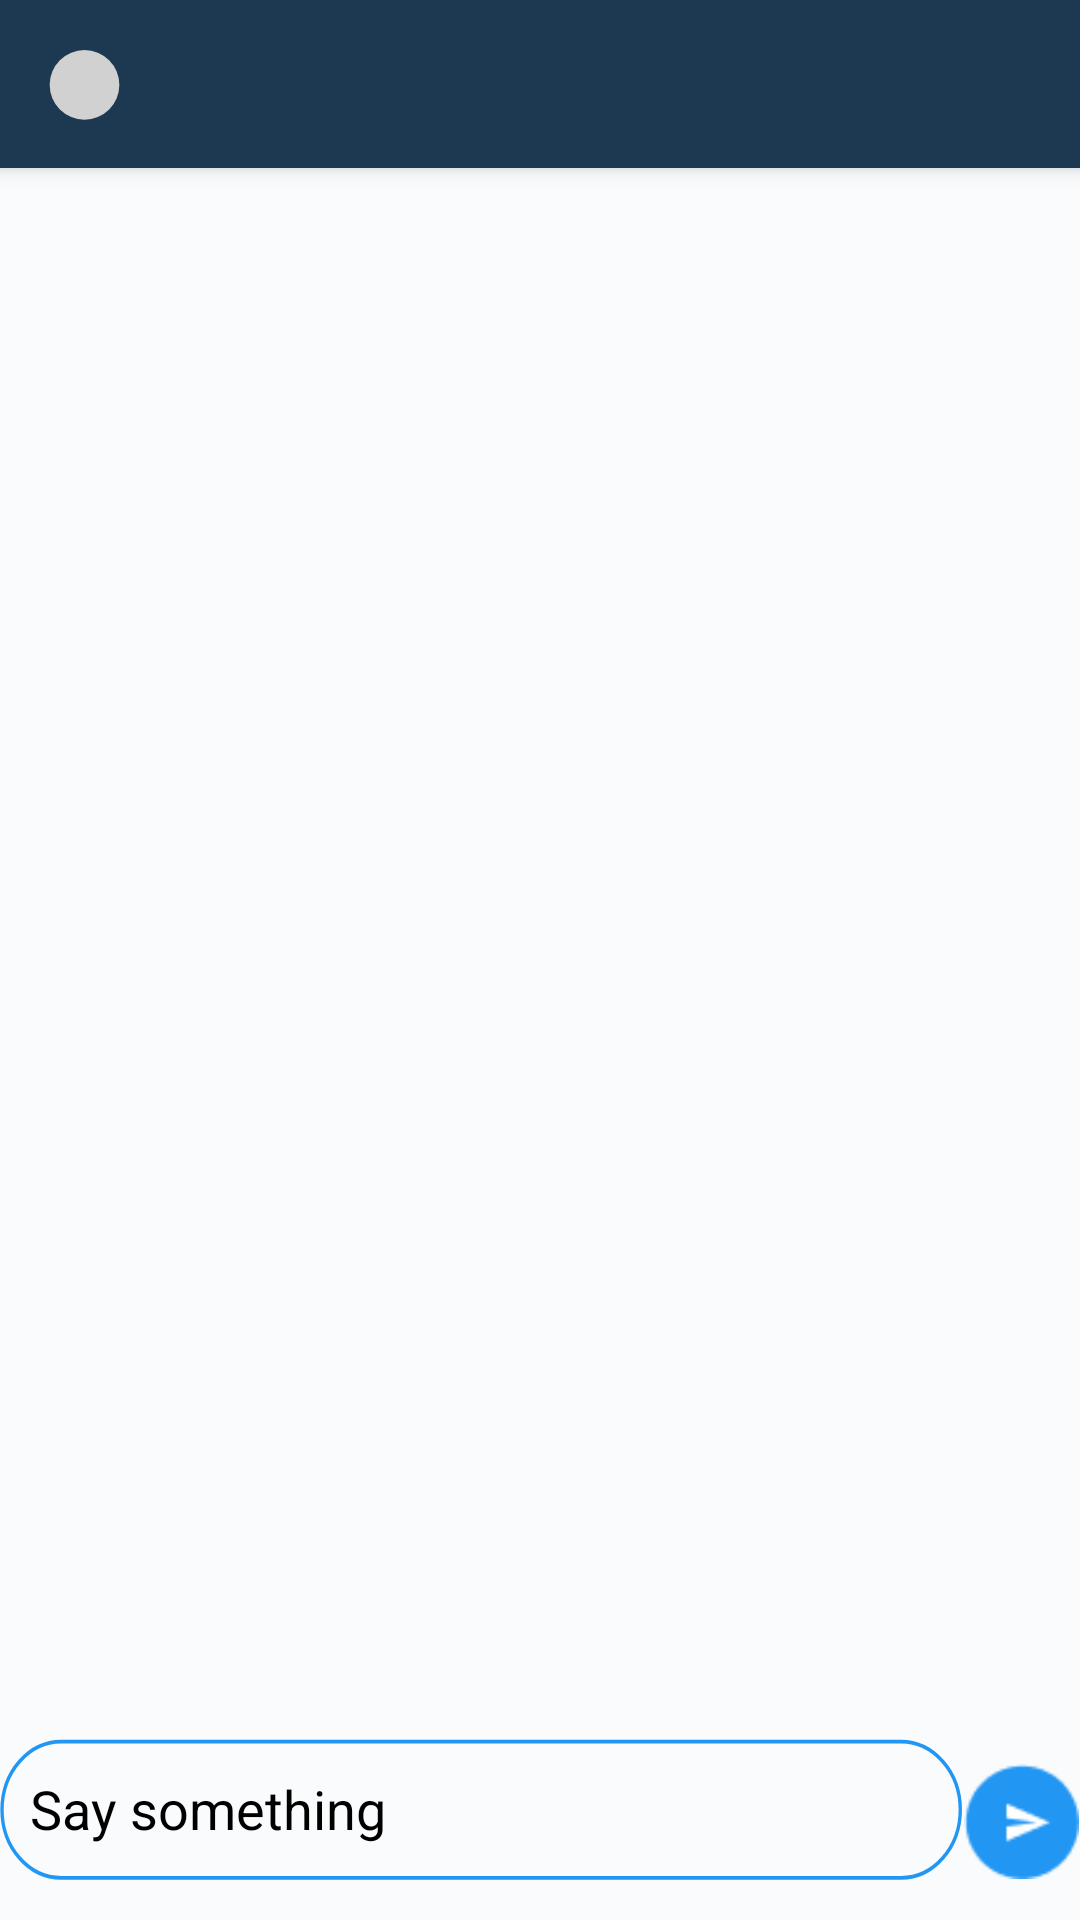

Icons on this 1080 x 1920 Android screen, each with its box as [x1=x1, y1=y1, x2=x2, y2=y2]:
send: [x1=964, y1=1764, x2=1079, y2=1879]
